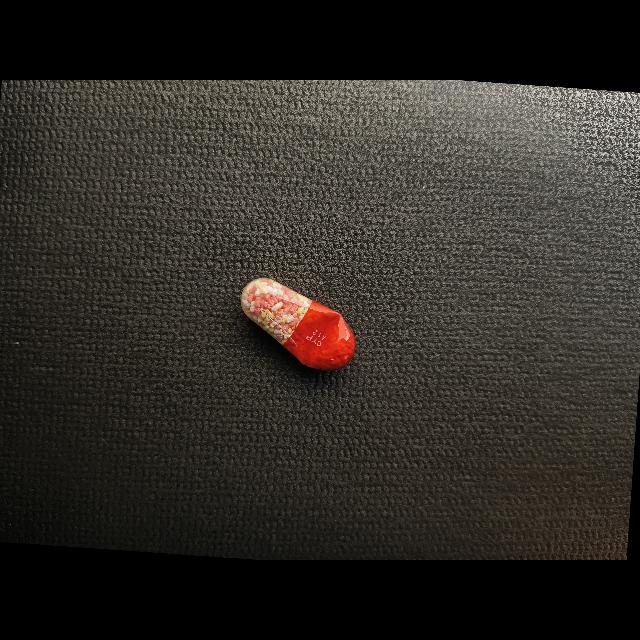Defective Capsule: (241, 278, 355, 370)
